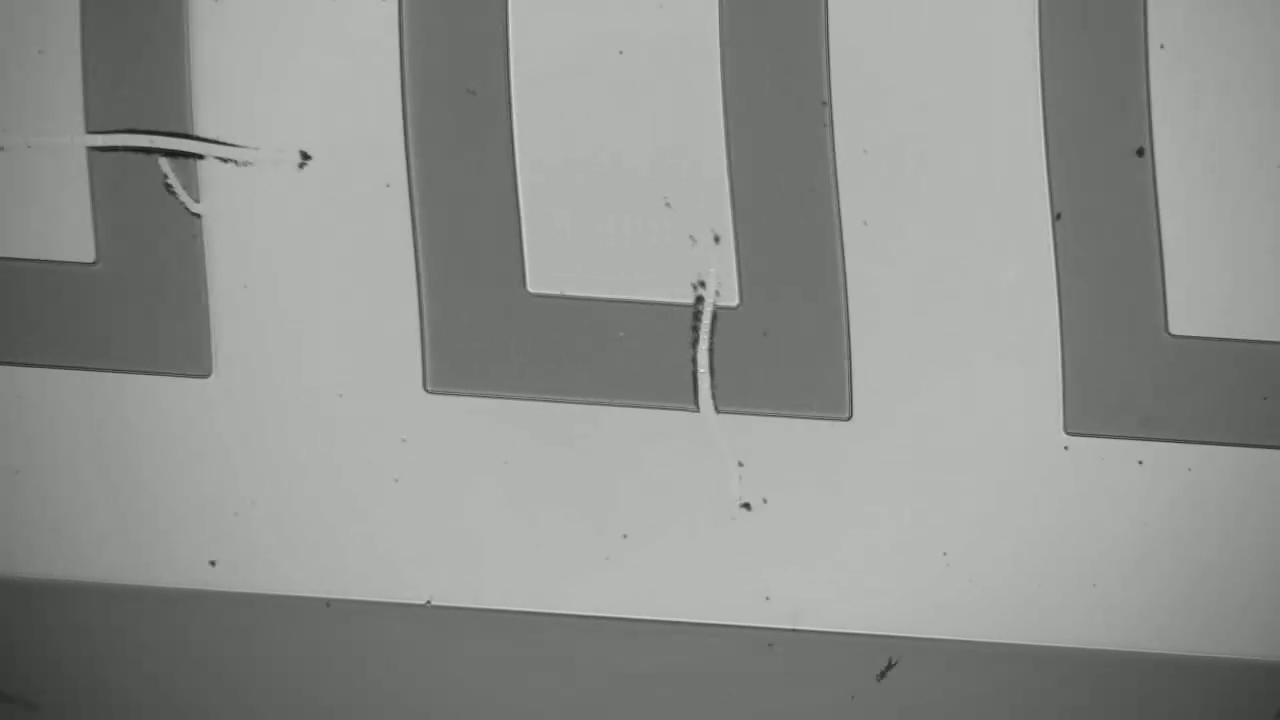Short_circuit: (49, 110, 241, 175), (672, 282, 736, 434)
